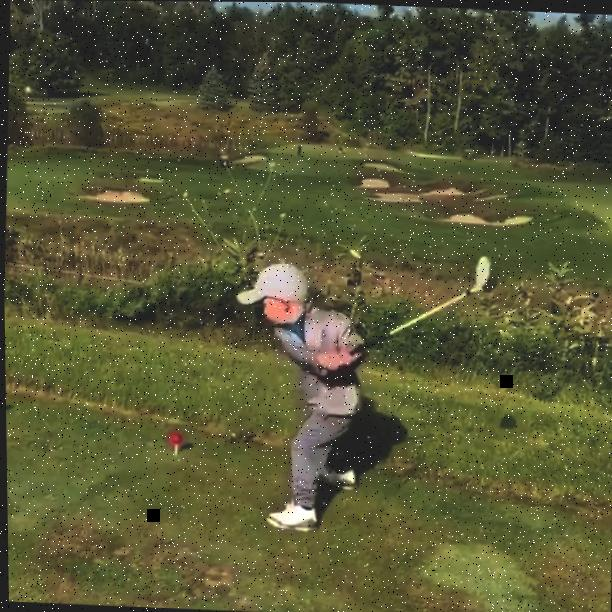ClubHead: (472, 255, 490, 289)
GolfBall: (170, 433, 181, 444)
